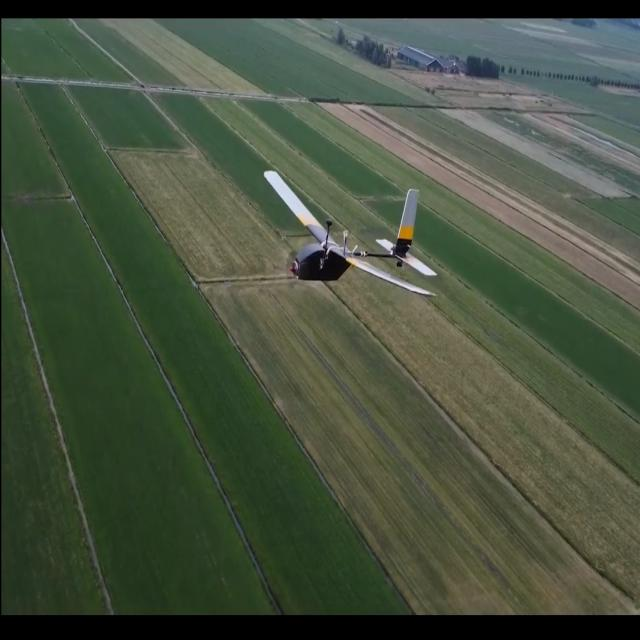iha: (264, 164, 440, 297)
